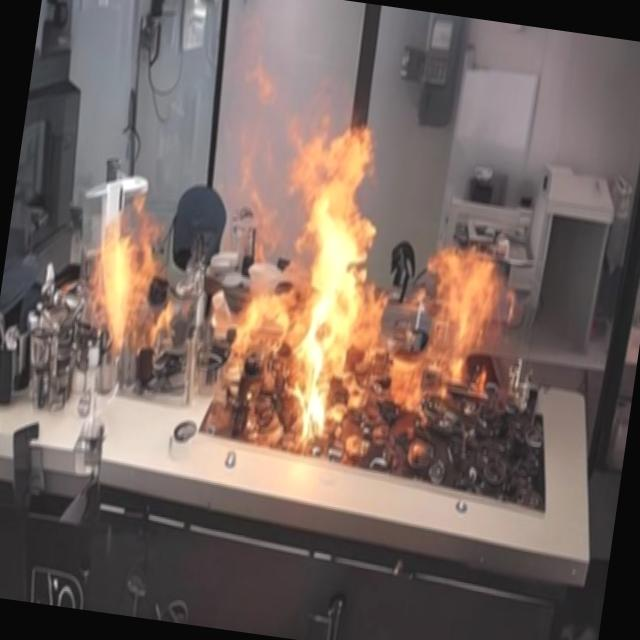fire: (212, 111, 558, 488), (82, 191, 176, 358)
